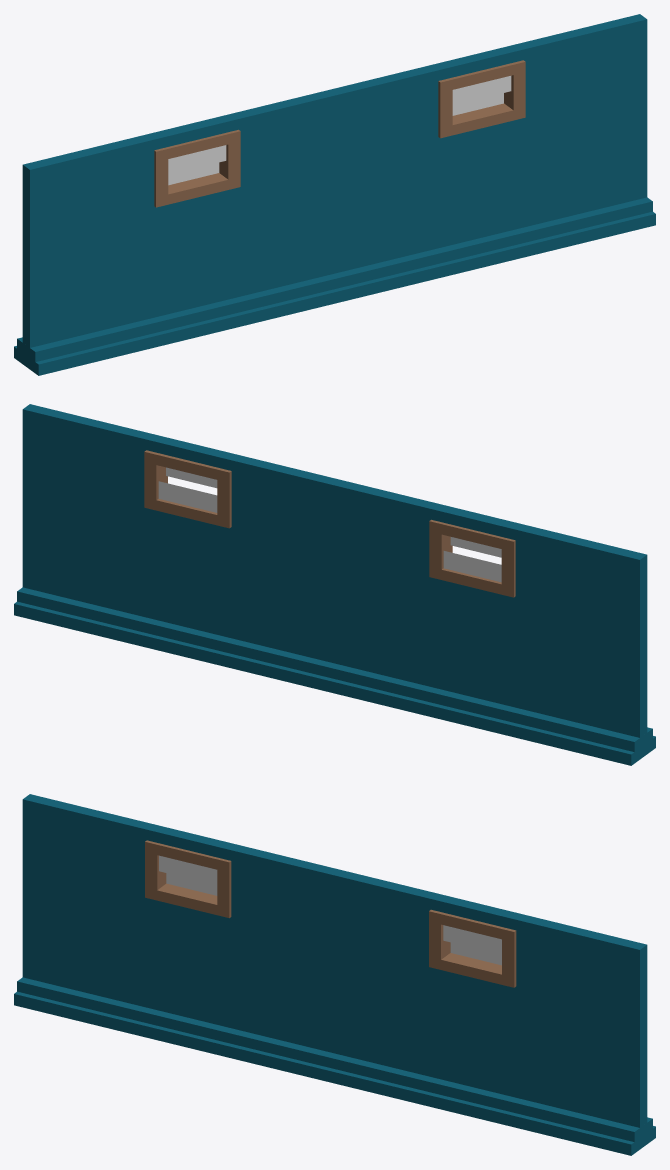
Rendered from tembok.fbx.
The picture shows the model from 3 angles, top to bottom: view 1: azimuth 30°, elevation 25°; view 2: azimuth 150°, elevation 25°; view 3: azimuth 330°, elevation 25°; orthographic projection.
Visible parts, largest first — view 1: Cube; view 2: Cube; view 3: Cube.
Part boxes in pixels (left/top/right/bottom): Cube: left=14, top=14, right=655, bottom=375; Cube: left=14, top=404, right=655, bottom=765; Cube: left=14, top=794, right=655, bottom=1155.
Size of the model in its own units: 21.73 by 6.71 by 1.5.
